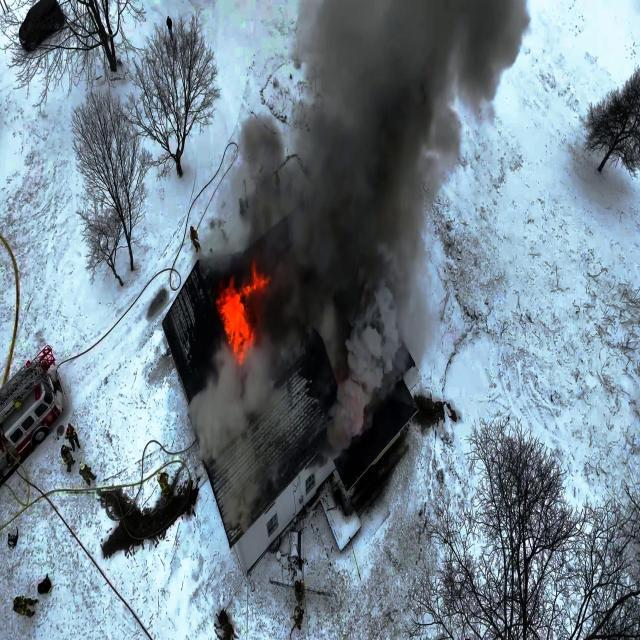Fire: (213, 261, 264, 371)
Smoke: (255, 0, 535, 265), (327, 272, 404, 474)
